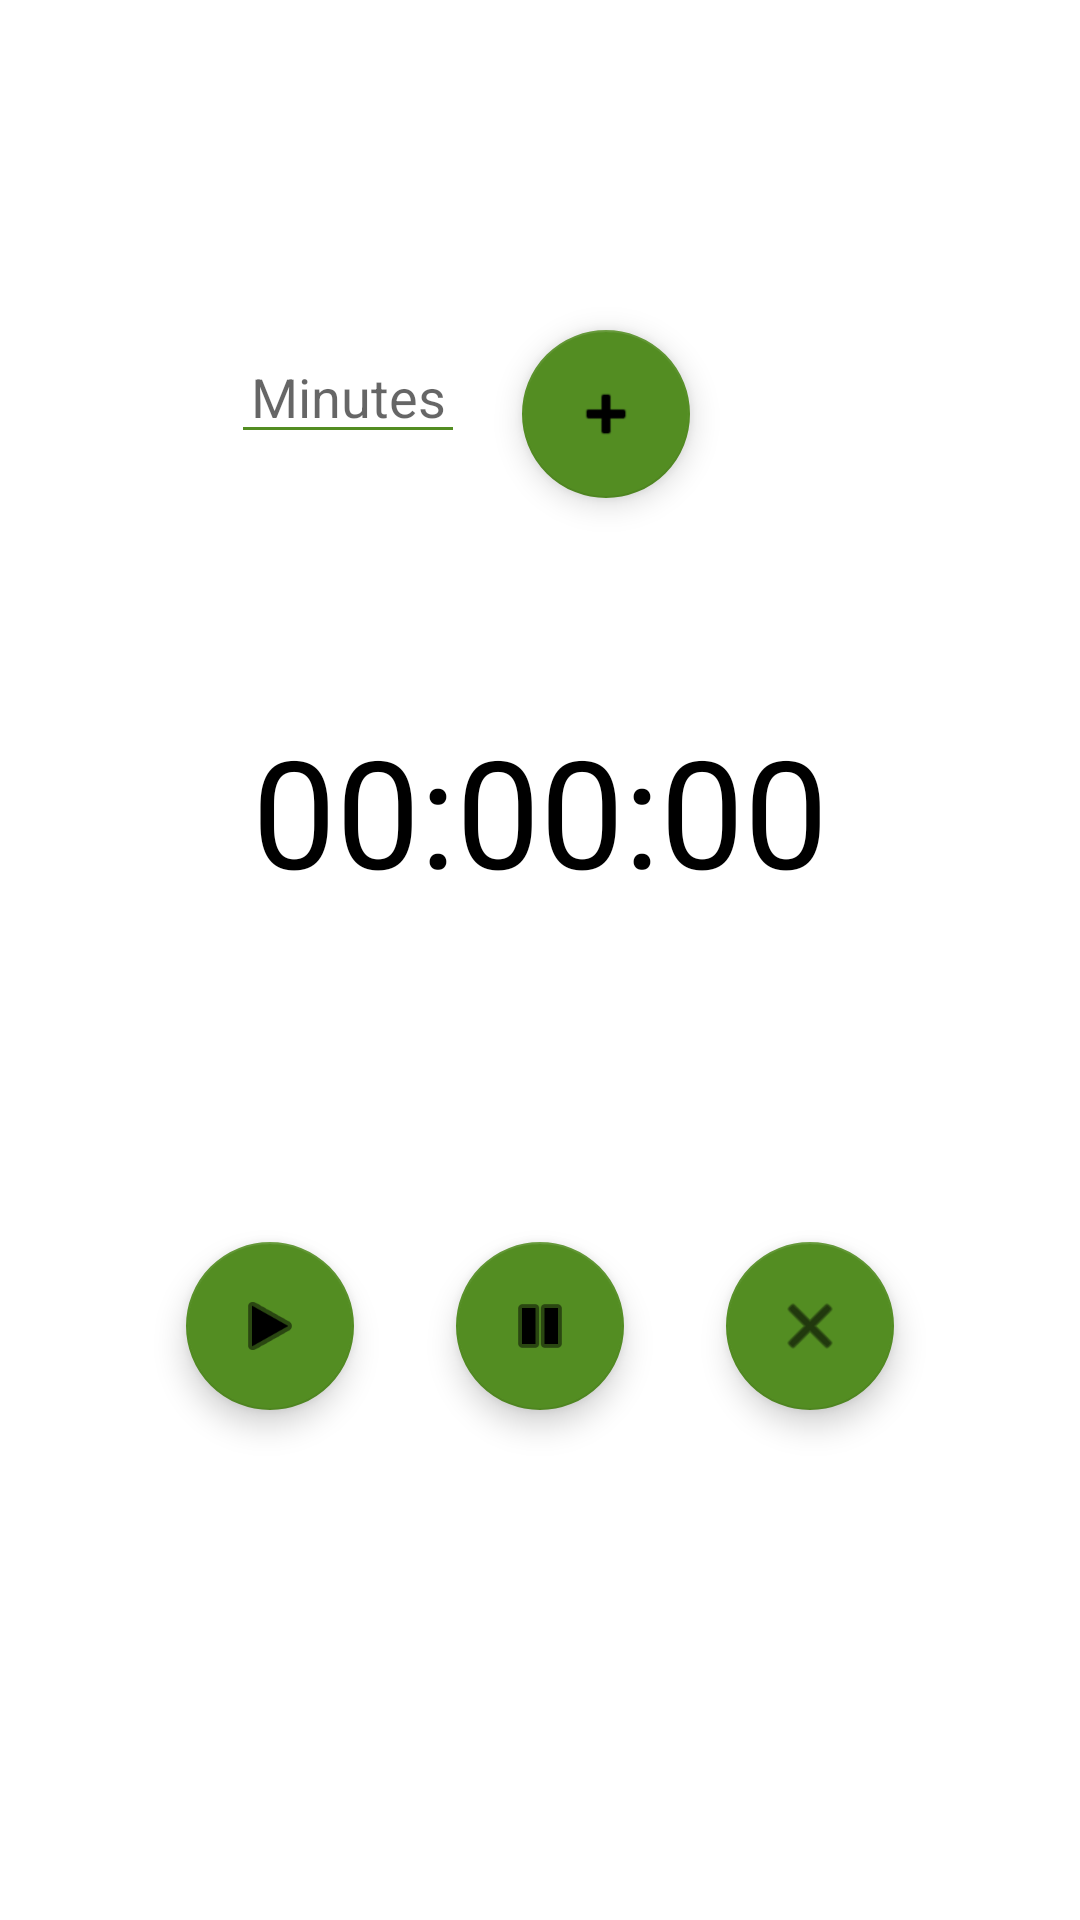

Named icons in this screenshot (1080px x 1920px) and their bounding boxes, (x1, y1, x2, y2):
add: (522, 330, 690, 498)
close clear cancel: (726, 1242, 894, 1410)
pause: (456, 1242, 624, 1410)
play: (186, 1242, 354, 1410)
